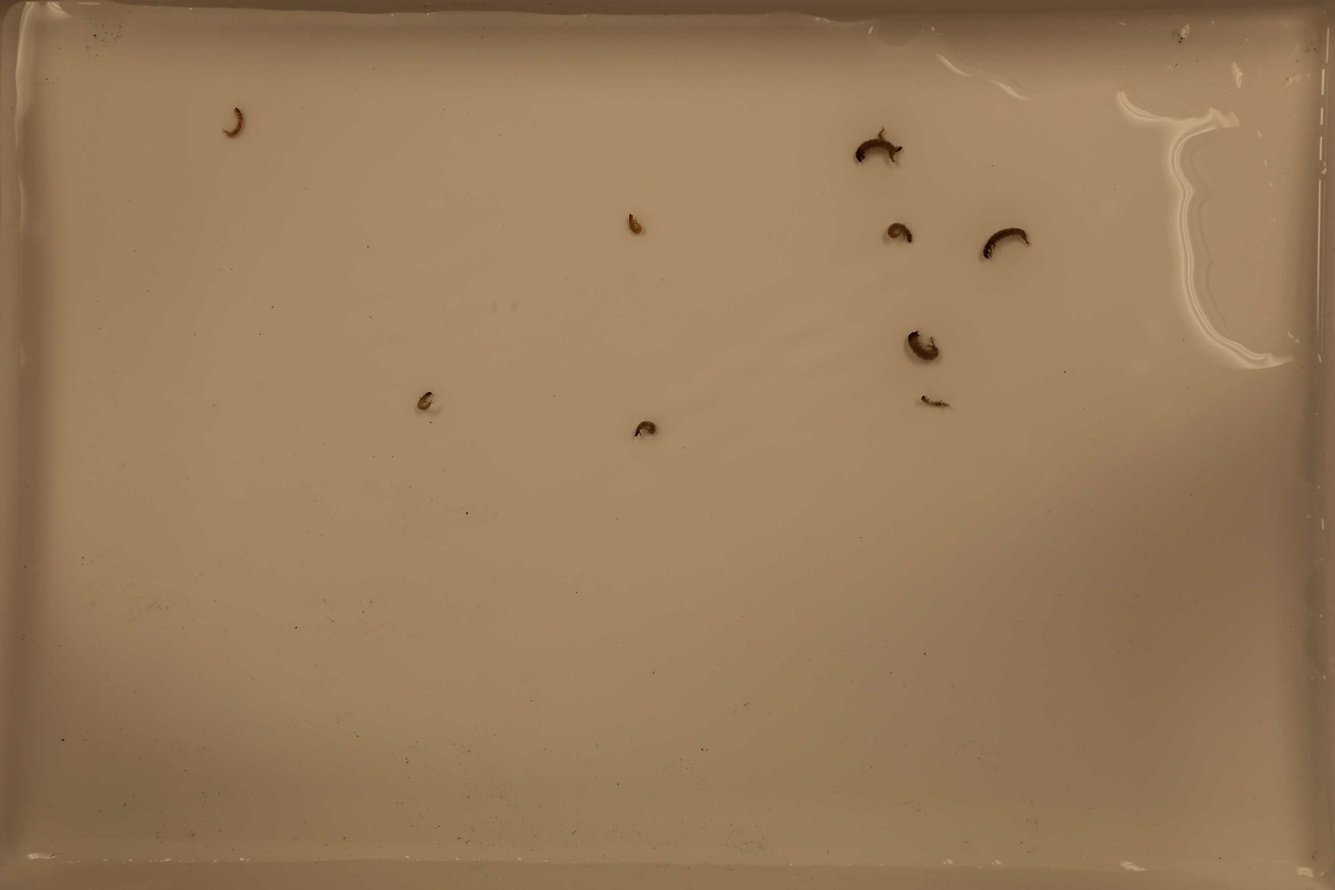Cadisfly: (981, 223, 1037, 263), (900, 325, 944, 368), (850, 134, 903, 167), (221, 102, 246, 137), (915, 391, 953, 413), (882, 220, 913, 246), (626, 418, 660, 439), (414, 390, 436, 414), (627, 211, 646, 234)
